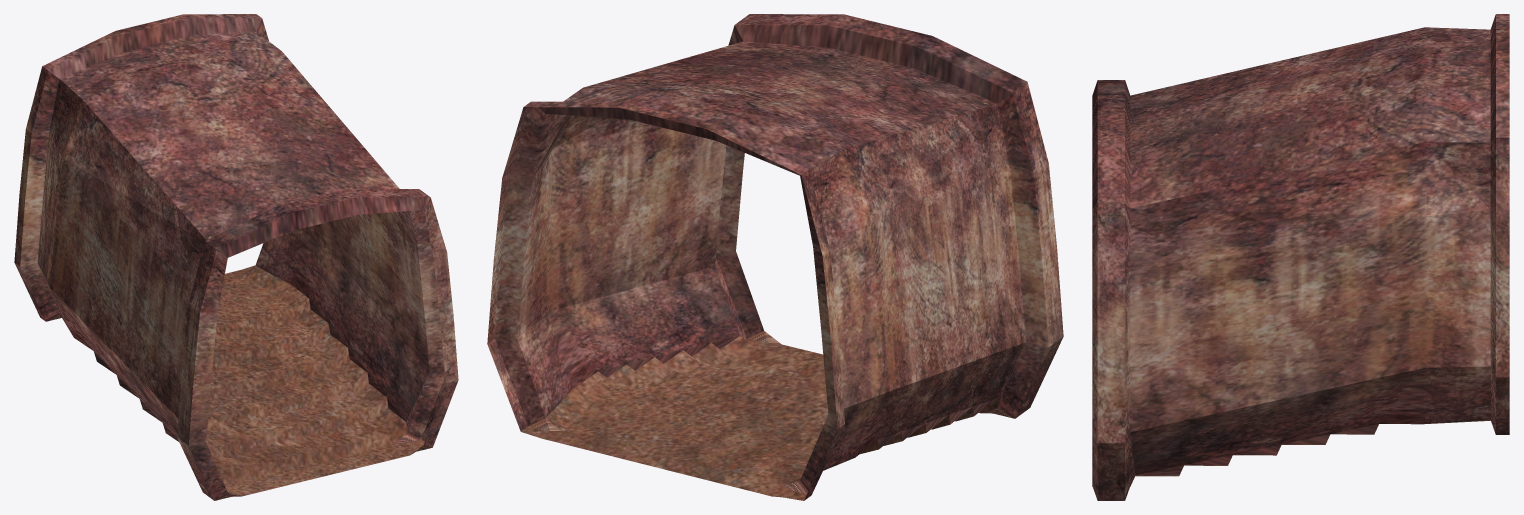
Rendered from thm_dath_night_sister_stronghold_r1_mesh_r1.fbx.
3 views of the same model, side by side, from view 1: azimuth 30°, elevation 25°; view 2: azimuth 150°, elevation 25°; view 3: azimuth 270°, elevation 25° (orthographic). The views are drawn at different scales.
Parts seen in each view (by area): view 1: mesh_node; view 2: mesh_node; view 3: mesh_node.
Boxes of the visible parts, x1,y1,x2,y2 form: mesh_node: (14,14,458,500); mesh_node: (487,14,1063,500); mesh_node: (1092,14,1509,500).
Bounding box in the file's own units: 4.48 × 5.12 × 5.05.
Materials: 3 (3 with a texture image).
